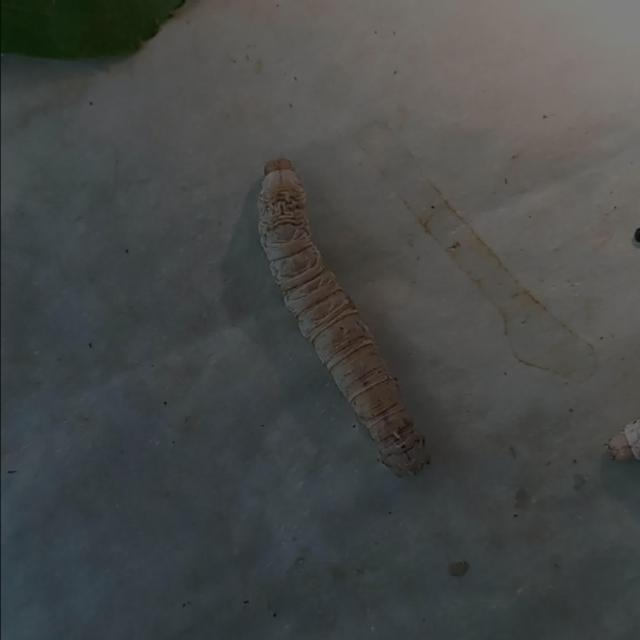Grasserie: (240, 148, 443, 486)
